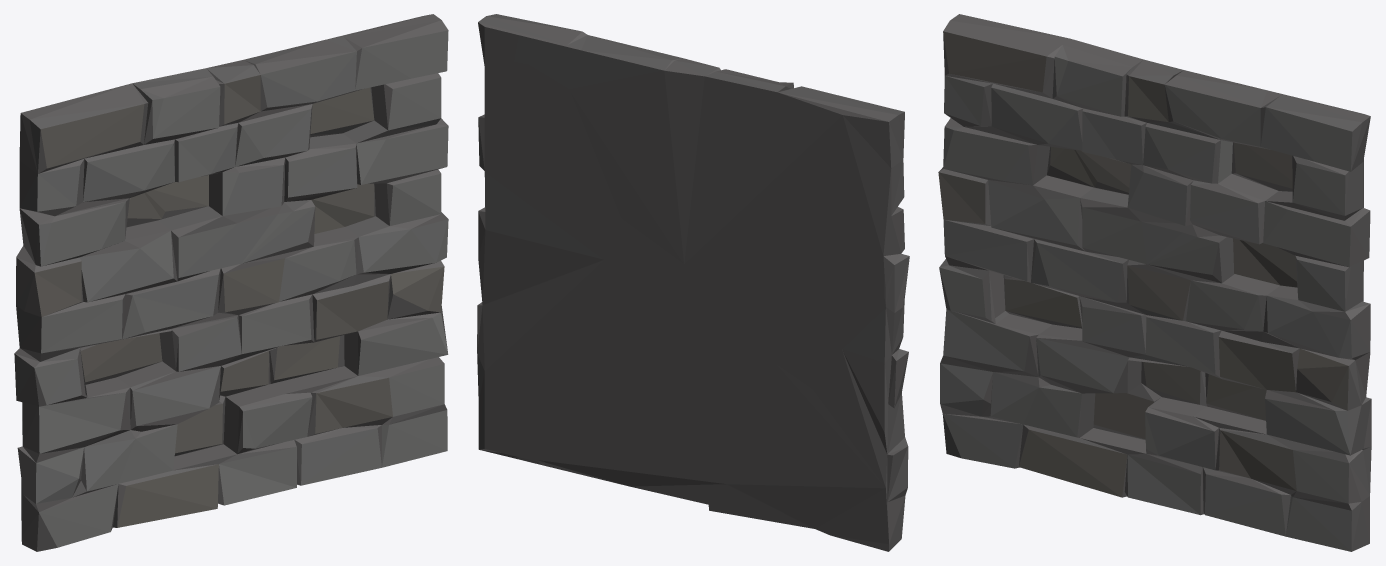
The model's file is SM_Env_Wall_04.FBX.
3 views of the same model, side by side, from view 1: azimuth 30°, elevation 25°; view 2: azimuth 150°, elevation 25°; view 3: azimuth 330°, elevation 25° (orthographic).
Parts seen in each view (by area): view 1: SM_Env_Wall_04; view 2: SM_Env_Wall_04; view 3: SM_Env_Wall_04.
Part boxes in pixels (x1,y1,x2,y2): SM_Env_Wall_04: (14,14,448,551); SM_Env_Wall_04: (477,14,909,551); SM_Env_Wall_04: (938,14,1371,551).
Size of what is drawn, in the model's own units: 518 by 42.95 by 513.
